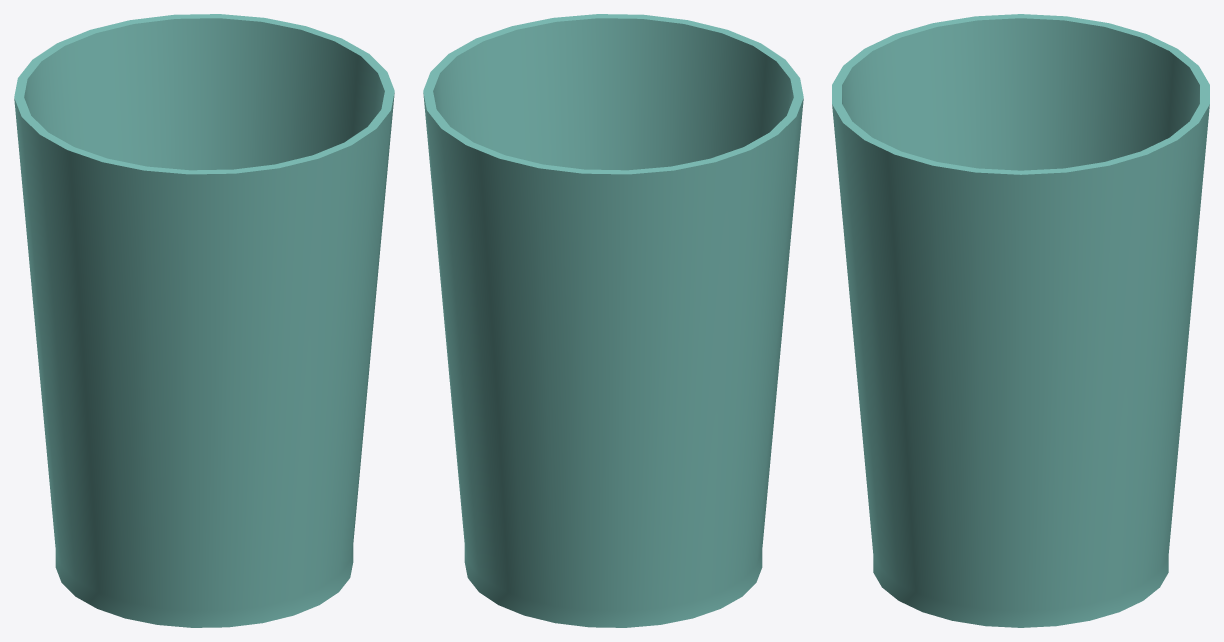
Rendered from vaso.fbx.
The picture shows the model from 3 angles, left to right: view 1: azimuth 30°, elevation 25°; view 2: azimuth 150°, elevation 25°; view 3: azimuth 270°, elevation 25°; orthographic projection.
Visible parts, largest first — view 1: pCylinder7; view 2: pCylinder7; view 3: pCylinder7.
Part boxes in pixels (box(x1,y1,x2,y2)): pCylinder7: box(14, 14, 394, 627); pCylinder7: box(423, 14, 803, 627); pCylinder7: box(832, 14, 1209, 627).
Size of the model in its own units: 0.6562 by 0.8954 by 0.6514.
